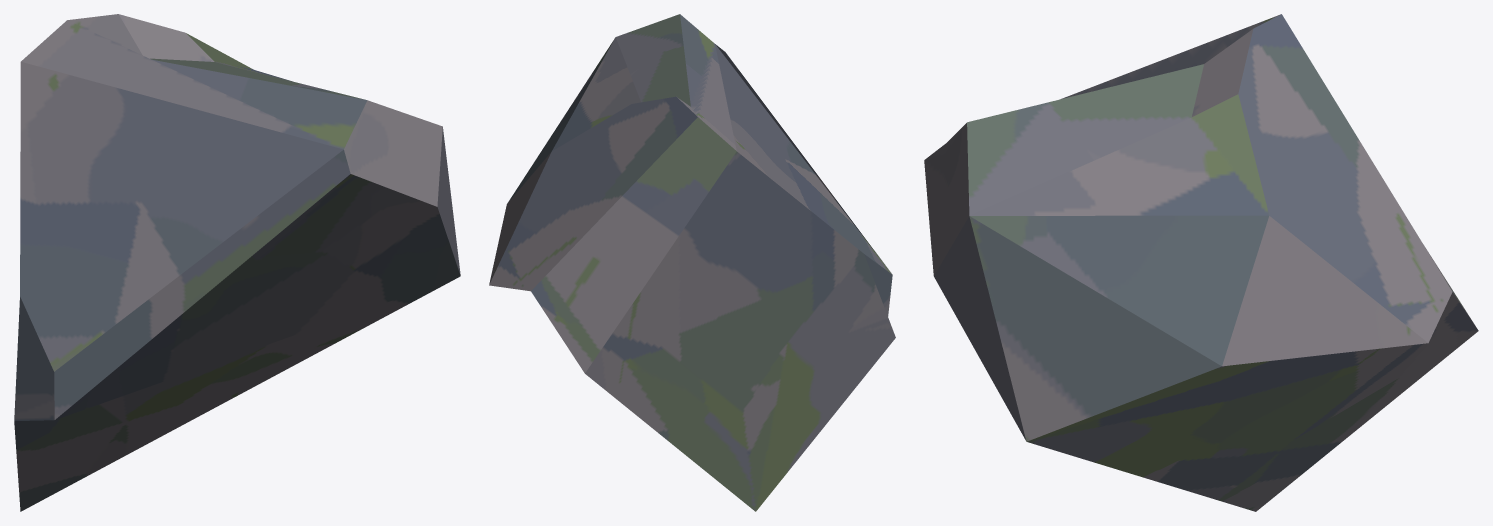
File: T_ROCK04.fbx
3 renders of one model, left to right at view 1: azimuth 30°, elevation 25°; view 2: azimuth 150°, elevation 25°; view 3: azimuth 270°, elevation 25°, orthographic. The views are drawn at different scales.
Parts seen in each view (by area): view 1: T_ROCK04.001; view 2: T_ROCK04.001; view 3: T_ROCK04.001.
Boxes of the visible parts, x1=… form: T_ROCK04.001: x1=14, y1=14, x2=460, y2=511; T_ROCK04.001: x1=489, y1=14, x2=895, y2=511; T_ROCK04.001: x1=924, y1=14, x2=1478, y2=511.
Bounding box in the file's own units: 206 × 220 × 206.
Materials: 1 (1 with a texture image).
